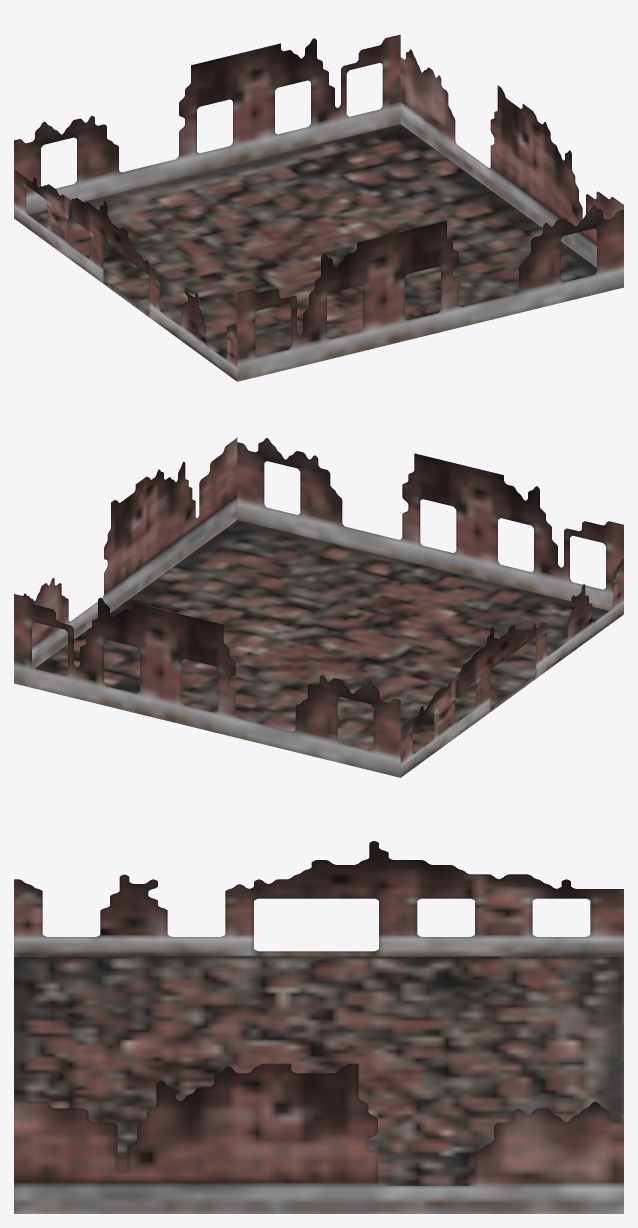
Rendered from city4storya_dam.glb.
3 views of the same model, one above another, from view 1: azimuth 30°, elevation 25°; view 2: azimuth 150°, elevation 25°; view 3: azimuth 270°, elevation 25° (orthographic). The views are drawn at different scales.
Parts seen in each view (by area): view 1: City2StoryA; view 2: City2StoryA; view 3: City2StoryA.
Part boxes in pixels (x1,y1,x2,y2): City2StoryA: (14, 34, 623, 381); City2StoryA: (14, 437, 623, 777); City2StoryA: (14, 841, 623, 1213).
Bounding box in the file's own units: 17.76 × 4.82 × 17.76.
1 material, 1 textured.
